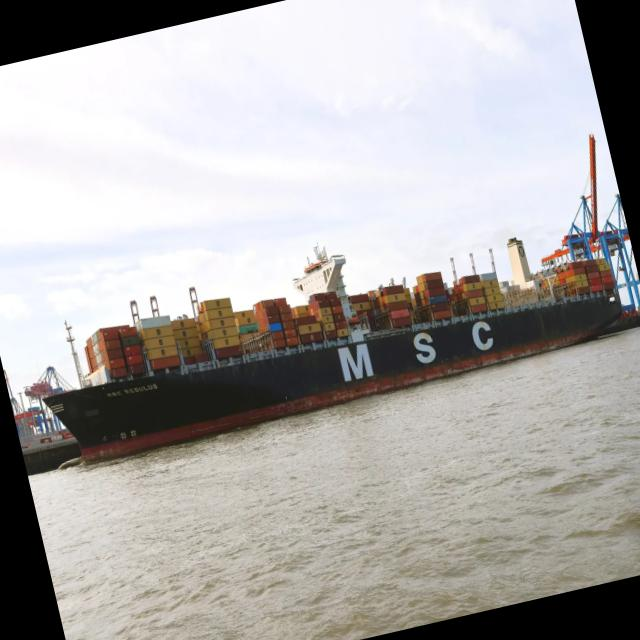Cargo: (49, 237, 617, 459), (72, 347, 80, 376)
